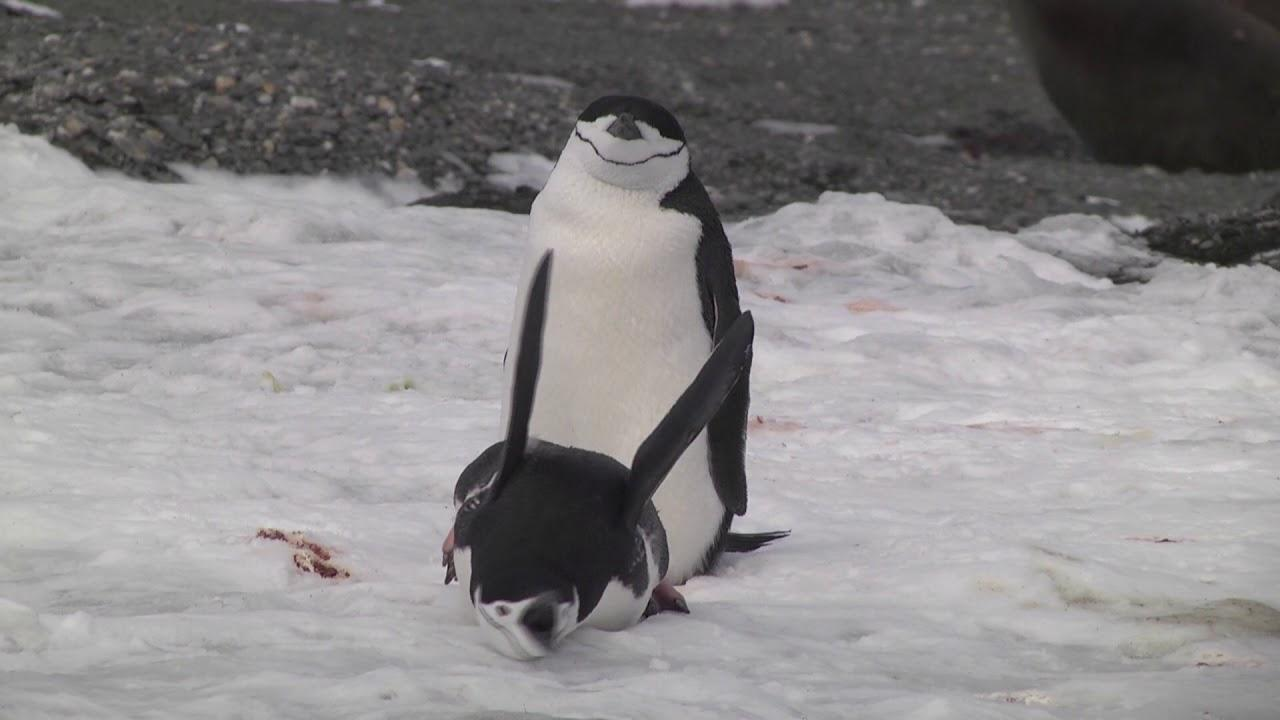chinstrap: (411, 70, 808, 686)
